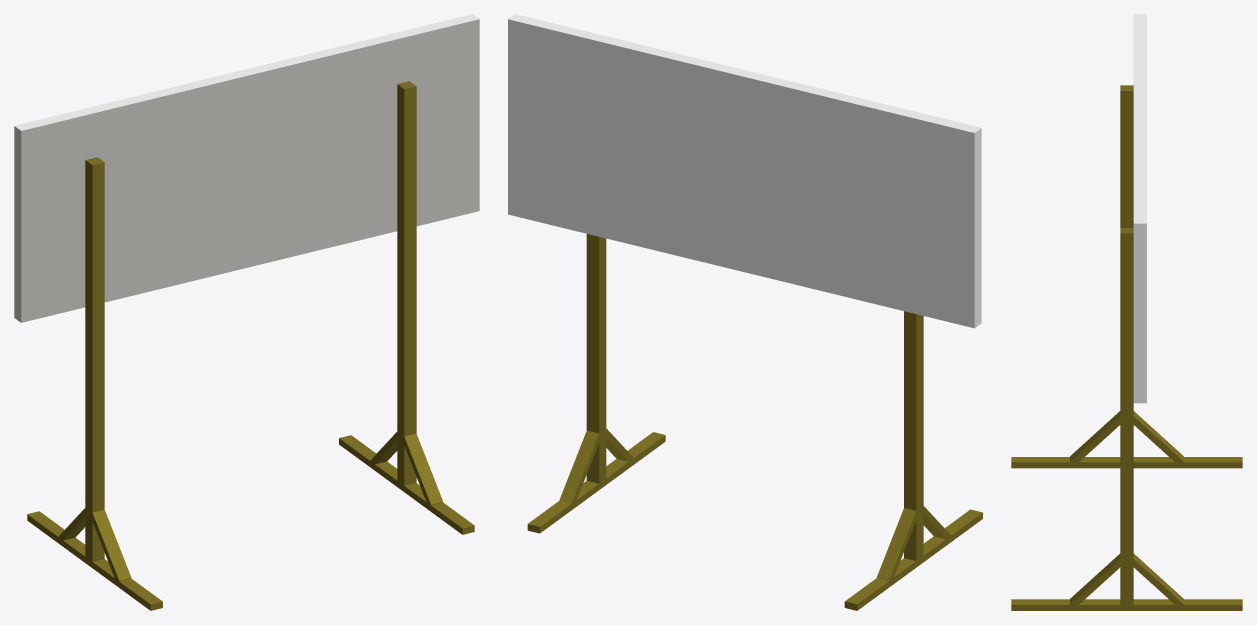
The model's file is Poster Stand.fbx.
3 views of the same model, side by side, from view 1: azimuth 30°, elevation 25°; view 2: azimuth 150°, elevation 25°; view 3: azimuth 270°, elevation 25° (orthographic). The views are drawn at different scales.
Parts seen in each view (by area): view 1: Poster, Leg2, Leg1, Leg2Base, Leg1Base, Leg2BaseSupportB, Leg1BaseSupportB; view 2: Poster, Leg1, Leg2, Leg1Base, Leg2Base, Leg1BaseSupportF, Leg2BaseSupportF; view 3: Poster, Leg1, Leg1Base, Leg2Base, Leg2, Leg1BaseSupportB, Leg1BaseSupportF, Leg2BaseSupportF, Leg2BaseSupportB.
Part boxes in pixels (x1,y1,x2,y2): Poster: [14, 14, 479, 322]; Leg2: [85, 157, 104, 561]; Leg1: [397, 81, 416, 485]; Leg2Base: [27, 511, 162, 610]; Leg1Base: [339, 435, 474, 534]; Leg2BaseSupportB: [89, 509, 131, 581]; Leg1BaseSupportB: [401, 433, 443, 504]; Poster: [508, 14, 981, 328]; Leg1: [586, 234, 606, 483]; Leg2: [904, 311, 923, 560]; Leg1Base: [527, 432, 665, 533]; Leg2Base: [844, 509, 982, 610]; Leg1BaseSupportF: [559, 430, 602, 503]; Leg2BaseSupportF: [877, 508, 919, 580]; Poster: [1133, 14, 1146, 403]; Leg1: [1120, 228, 1133, 604]; Leg1Base: [1011, 599, 1242, 610]; Leg2Base: [1011, 457, 1242, 468]; Leg2: [1120, 85, 1133, 227]; Leg1BaseSupportB: [1070, 553, 1125, 604]; Leg1BaseSupportF: [1128, 553, 1183, 604]; Leg2BaseSupportF: [1133, 411, 1183, 462]; Leg2BaseSupportB: [1070, 411, 1120, 462].
Size of the model in its own units: 93.75 by 87.5 by 43.75.
Materials: 1 (1 with a texture image).
